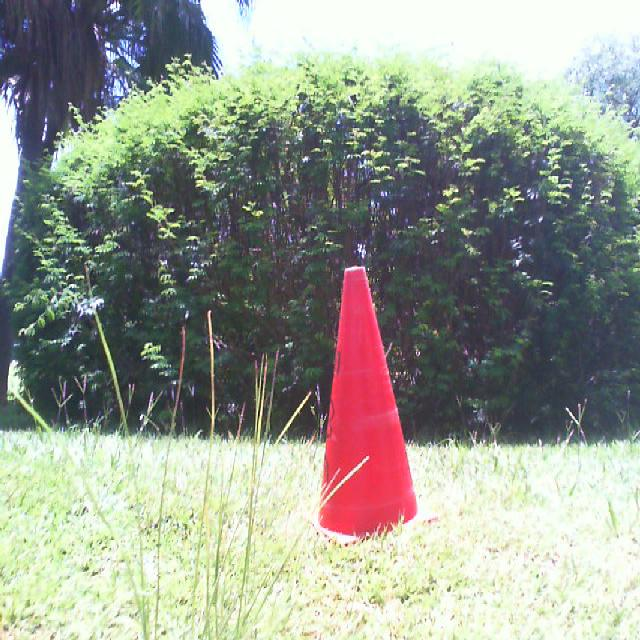cone: (297, 268, 439, 548)
